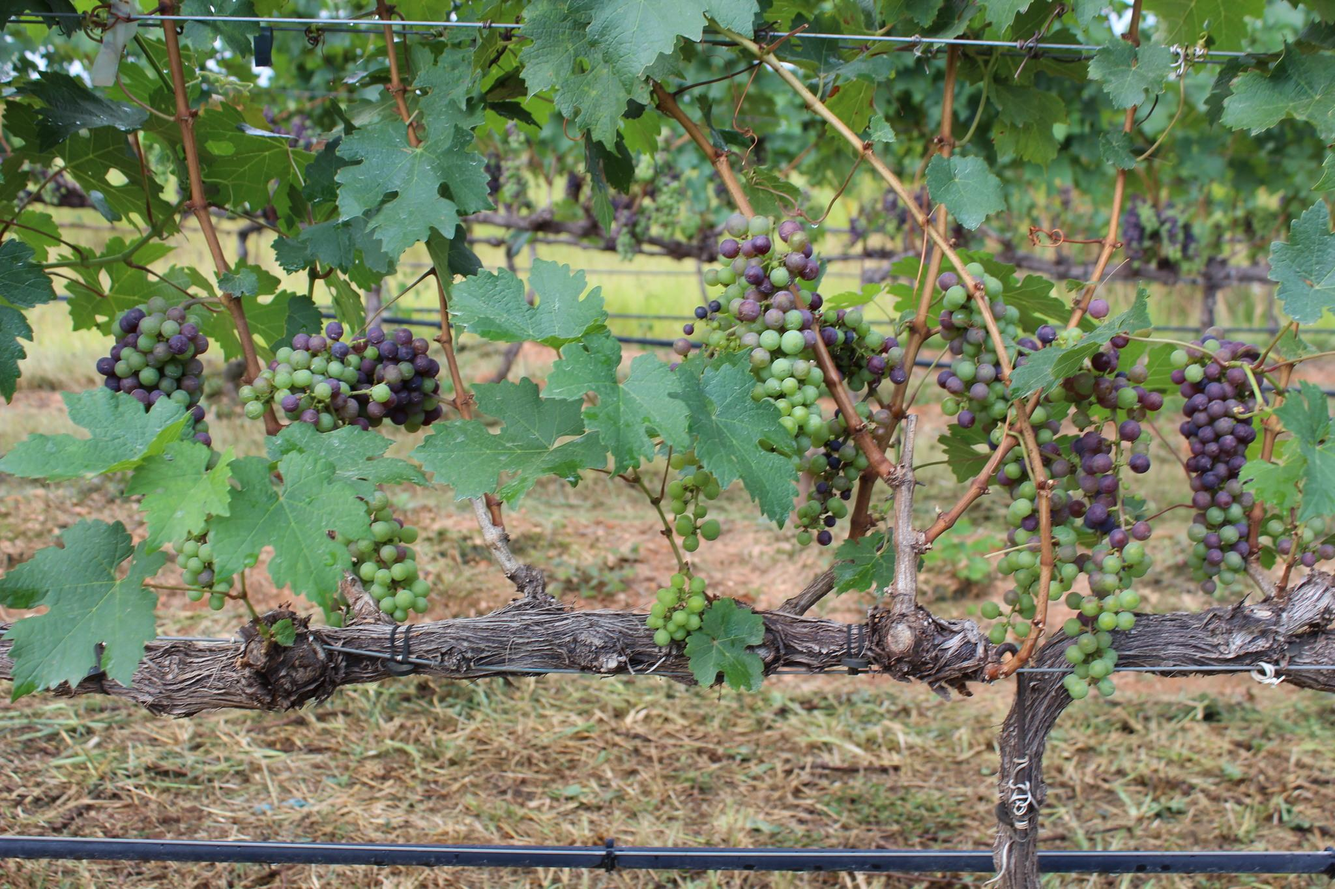Grape Ripe: (1168, 328, 1250, 598)
Grape Unripe: (713, 211, 832, 449), (241, 327, 449, 429), (97, 292, 219, 442), (984, 431, 1072, 637), (1057, 319, 1142, 505), (1061, 514, 1147, 695), (932, 257, 1018, 420), (336, 477, 428, 623), (793, 402, 873, 548), (801, 296, 904, 386), (658, 465, 728, 555), (644, 564, 700, 647), (175, 538, 237, 609)
